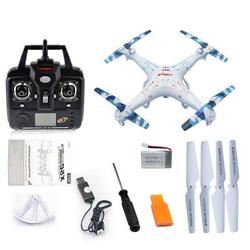drone: (93, 29, 236, 133)
